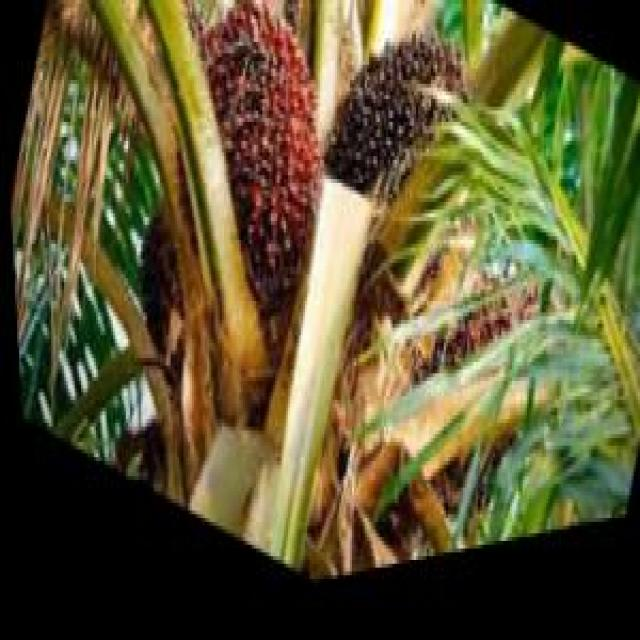Ripefruit: (137, 0, 356, 366)
